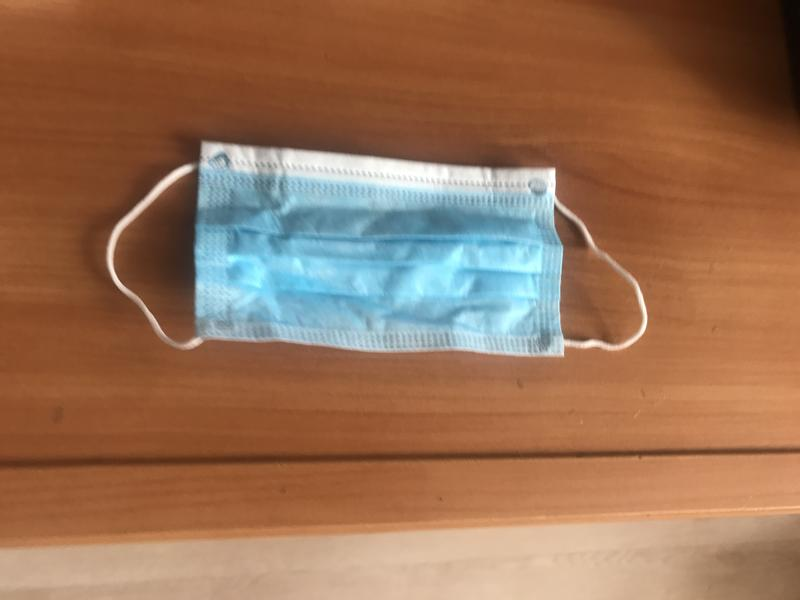medical_mask: (101, 142, 649, 360)
